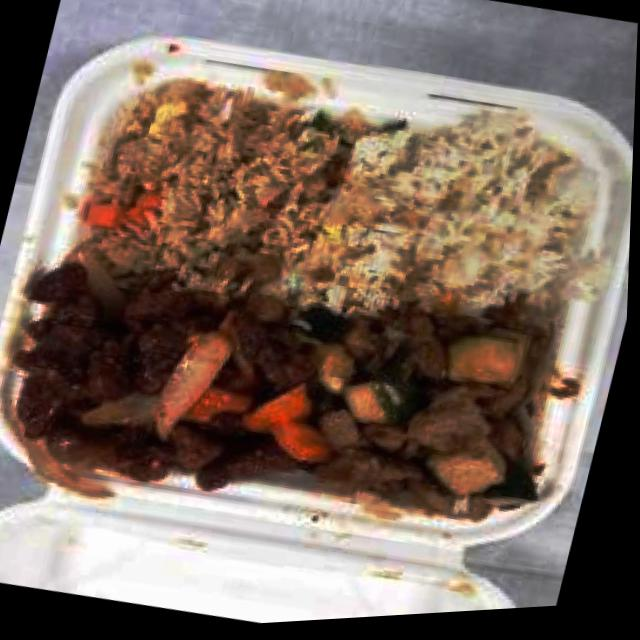Beijing Beef: (11, 250, 363, 525)
Fried Rice: (87, 66, 354, 300)
Kung Pao Chicken: (301, 287, 565, 524)
rice: (316, 110, 598, 323)
